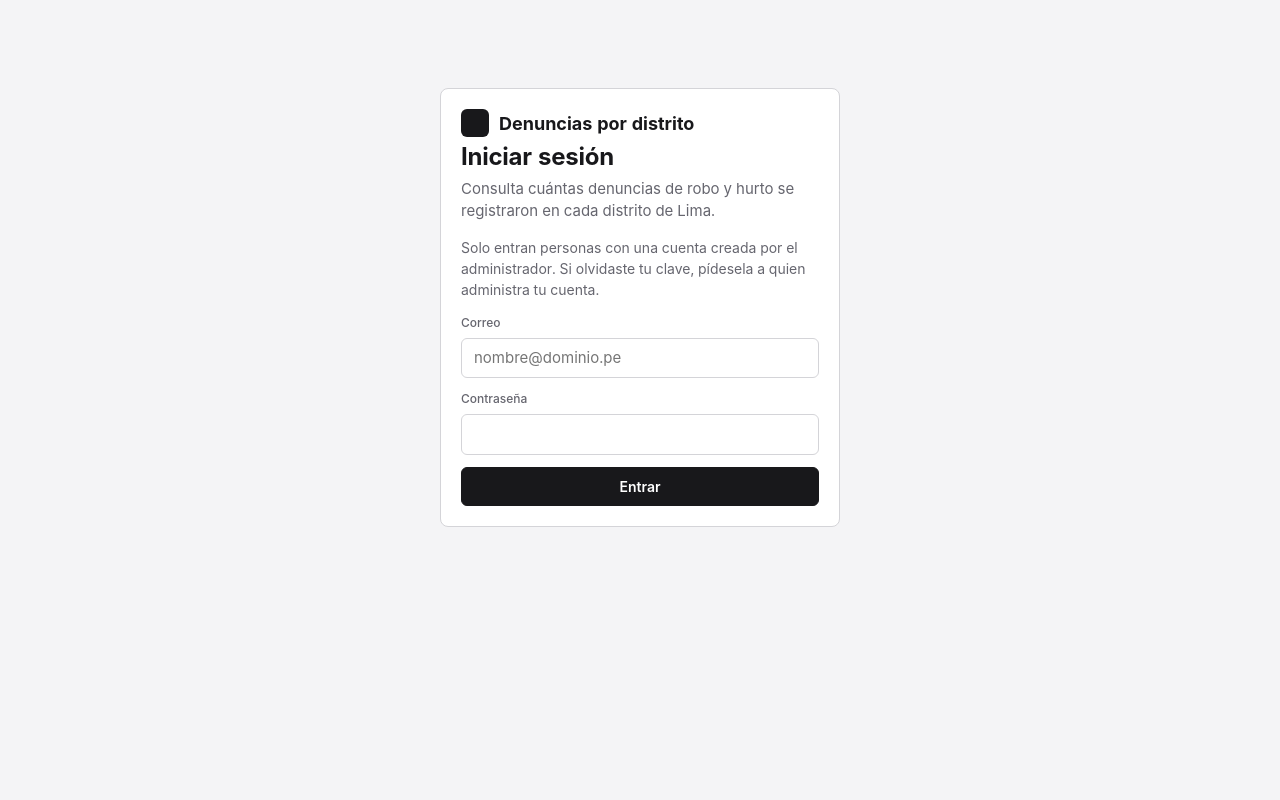
it: acceso › sin sesión lleva al inicio de sesión y, tras entrar, vuelve a donde la persona iba
This screenshot has width=1280, height=800.
Check: the heading "Iniciar sesión" is shown, box x1=461 y1=142 x2=614 y2=171
In the field labelled "Correo": (640, 358) x1=461 y1=338 x2=819 y2=378, type "alguien@prueba.pe"
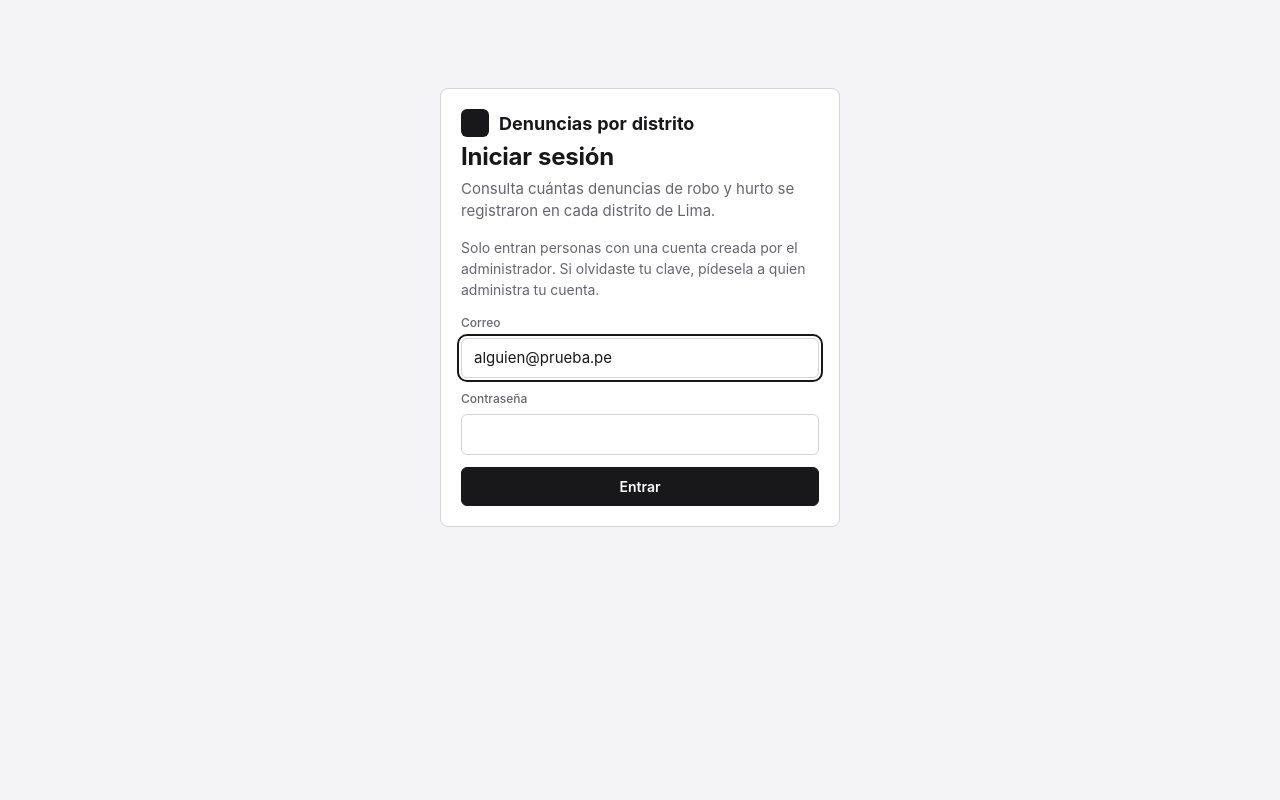
In the password field labelled "Contraseña": (640, 435) x1=461 y1=414 x2=819 y2=455, type "clave-segura-123"
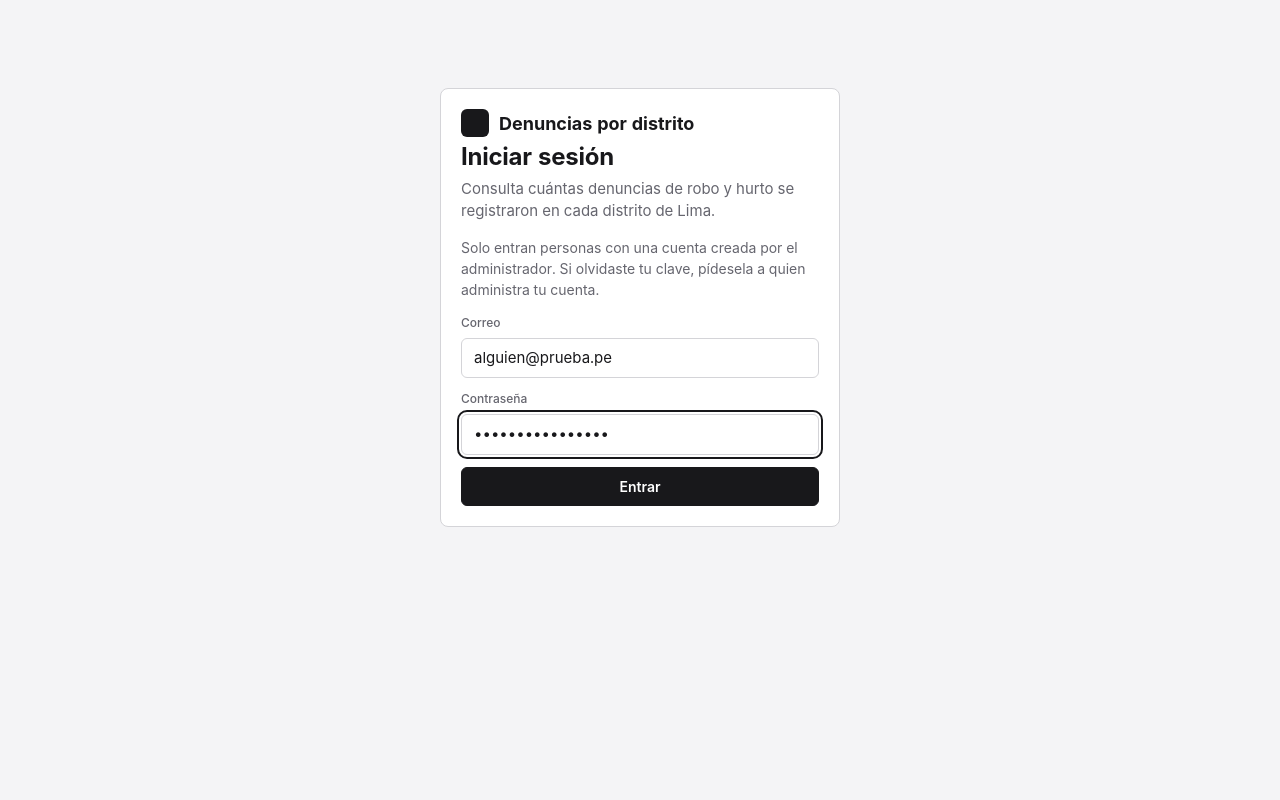
Click the button "Entrar": click(640, 486) x1=461 y1=467 x2=819 y2=506
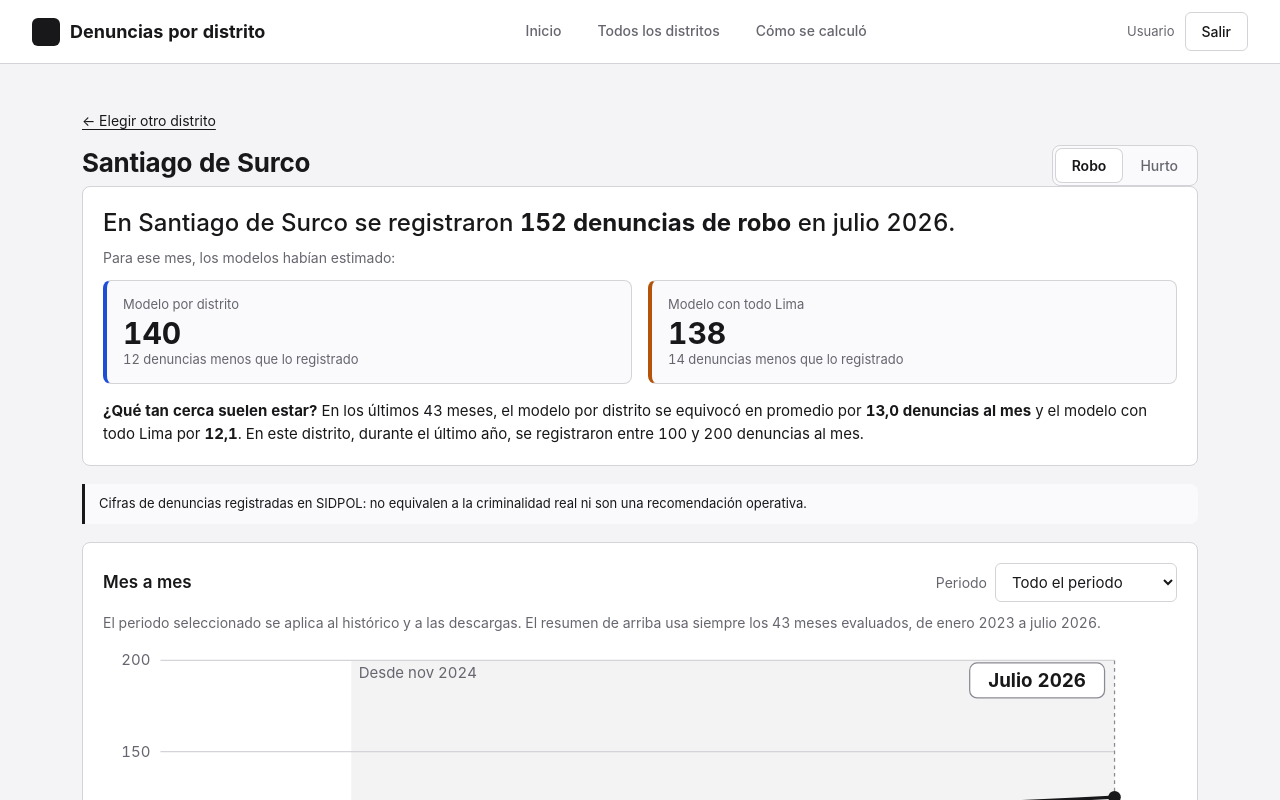
Check: the text "En Santiago de Surco se registraron" is shown, box x1=103 y1=208 x2=955 y2=237
